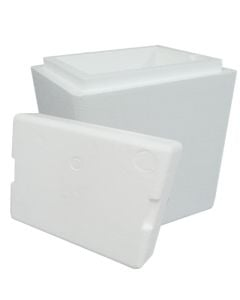Boxes: (11, 46, 236, 267)
